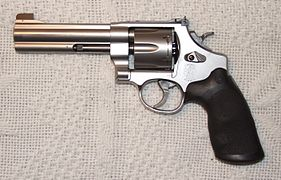Revolver: (9, 3, 269, 169)
